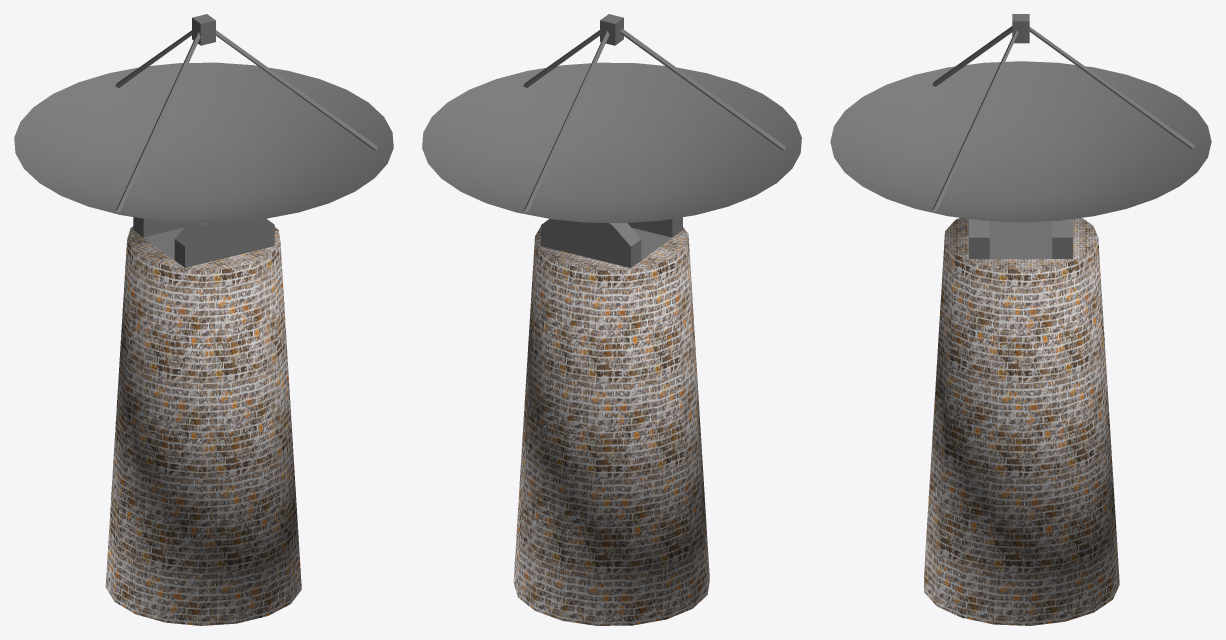
The model's file is RadioDish2.glb.
3 views of the same model, side by side, from view 1: azimuth 30°, elevation 25°; view 2: azimuth 150°, elevation 25°; view 3: azimuth 270°, elevation 25° (orthographic).
Parts seen in each view (by area): view 1: tower, dish, mount; view 2: tower, dish, mount; view 3: tower, dish, mount.
Part boxes in pixels (x1,y1,x2,y2): tower: (105,226,301,625); dish: (14,14,393,222); mount: (133,217,274,267); tower: (513,226,709,625); dish: (422,14,801,223); mount: (541,217,682,267); tower: (924,218,1119,625); dish: (830,14,1211,222); mount: (969,219,1072,258).
Bounding box in the file's own units: 30.02 × 49.23 × 30.02.
2 materials, 1 textured.
